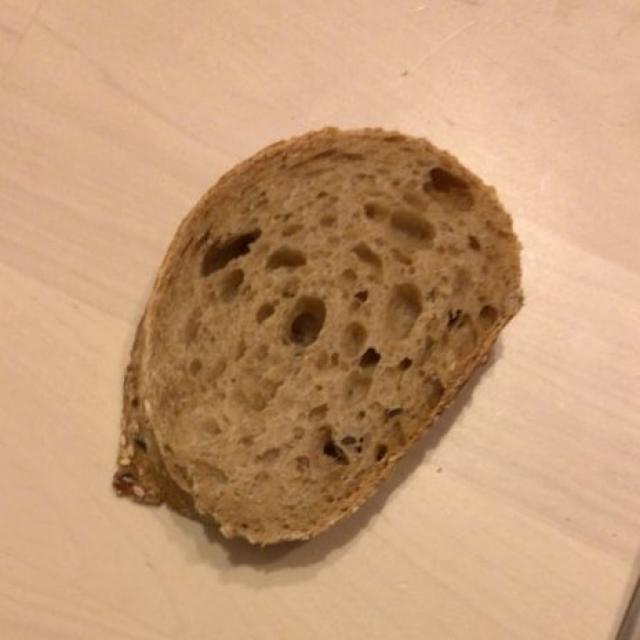bread-wholemeal: (118, 136, 515, 539)
